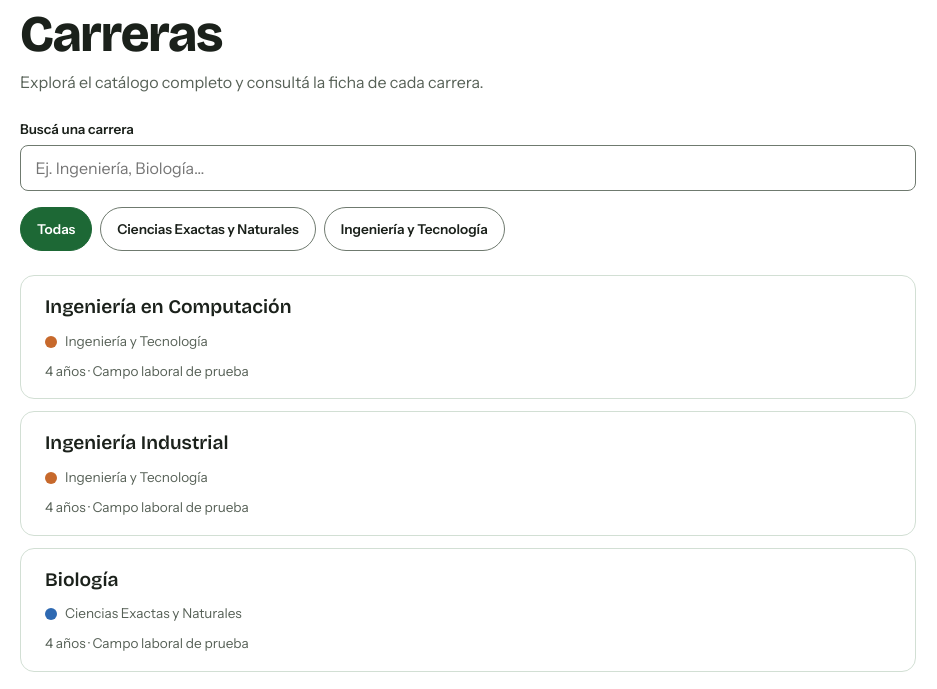
Test case: CarrerasPage (HU-04) › Escenario 2: búsqueda con resultados › vuelve a consultar el catálogo con el término escrito
Check: the text "Ingeniería en Computación" is shown, box [45,295,292,318]
Type "biologia" into the search field labelled "Buscá una carrera" at (468, 168), box [20,145,916,191]
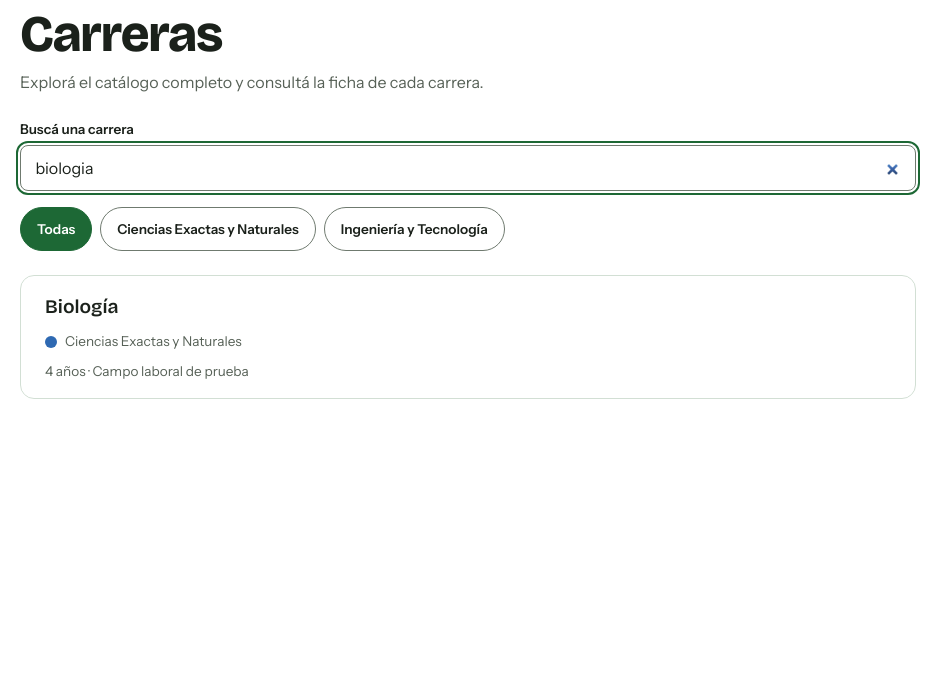
Check: the text "Biología" is shown, box [45,295,118,318]
Check: the link "Ingeniería en Computación" is gone
